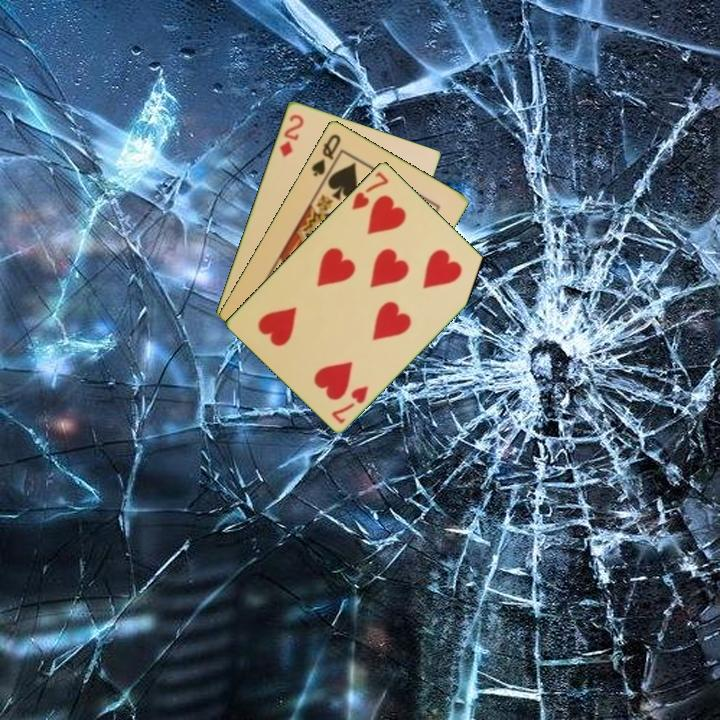2d: (276, 110, 306, 159)
7h: (348, 167, 392, 213), (328, 382, 371, 427)
Qs: (308, 130, 344, 179)
